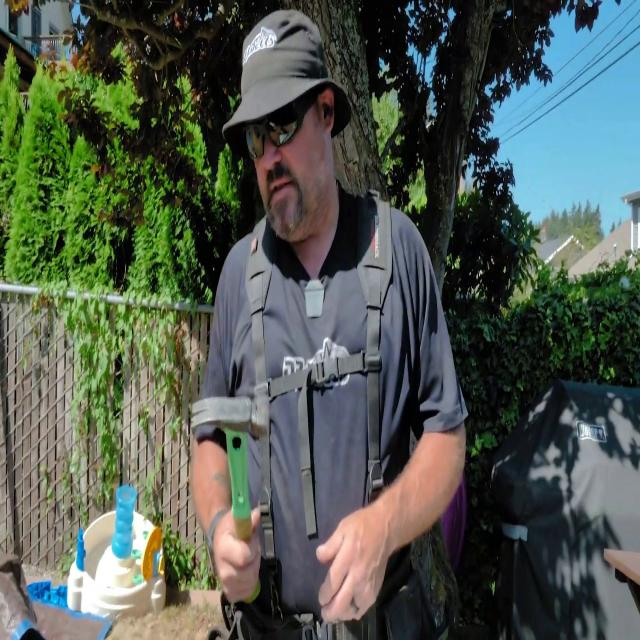hammer: (192, 399, 268, 601)
